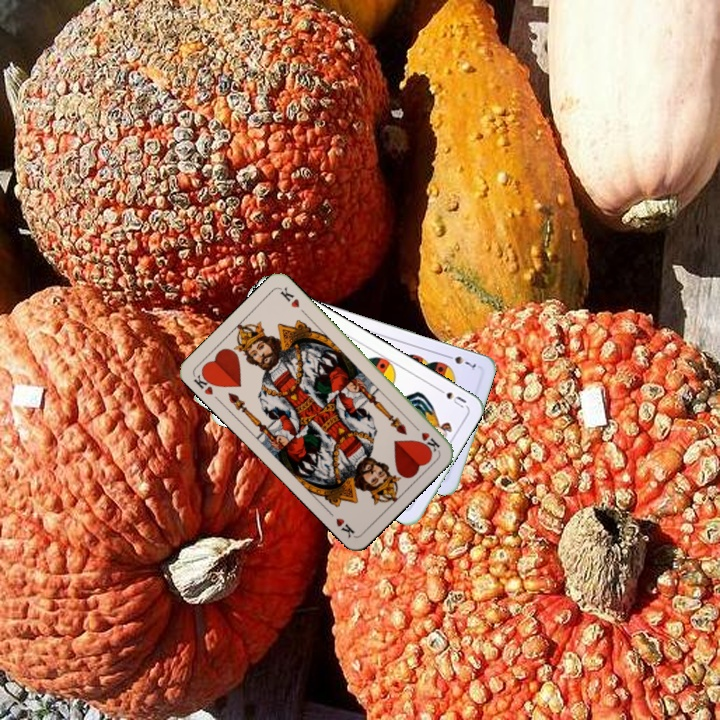HK: (409, 421, 443, 454), (189, 367, 219, 398)
S7: (441, 351, 479, 373)
SU: (432, 383, 469, 411)
